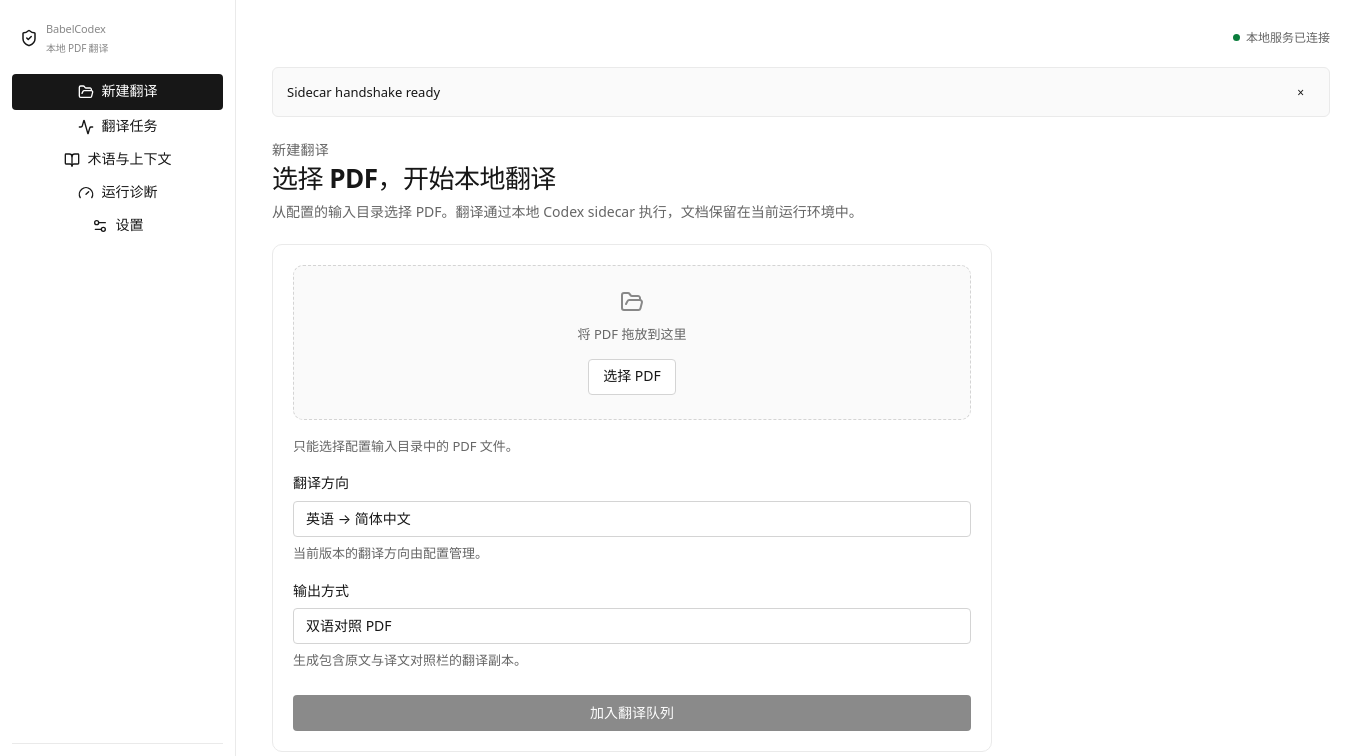
Test: BabelCodex GUI shell › switches between the task workbench views
This screenshot has width=1366, height=756.
Expected: the text "本地服务已连接" is shown, [1246, 28, 1330, 47]
Step 1. Click the button "翻译任务" → {"x": 118, "y": 127}, box [12, 111, 223, 143]
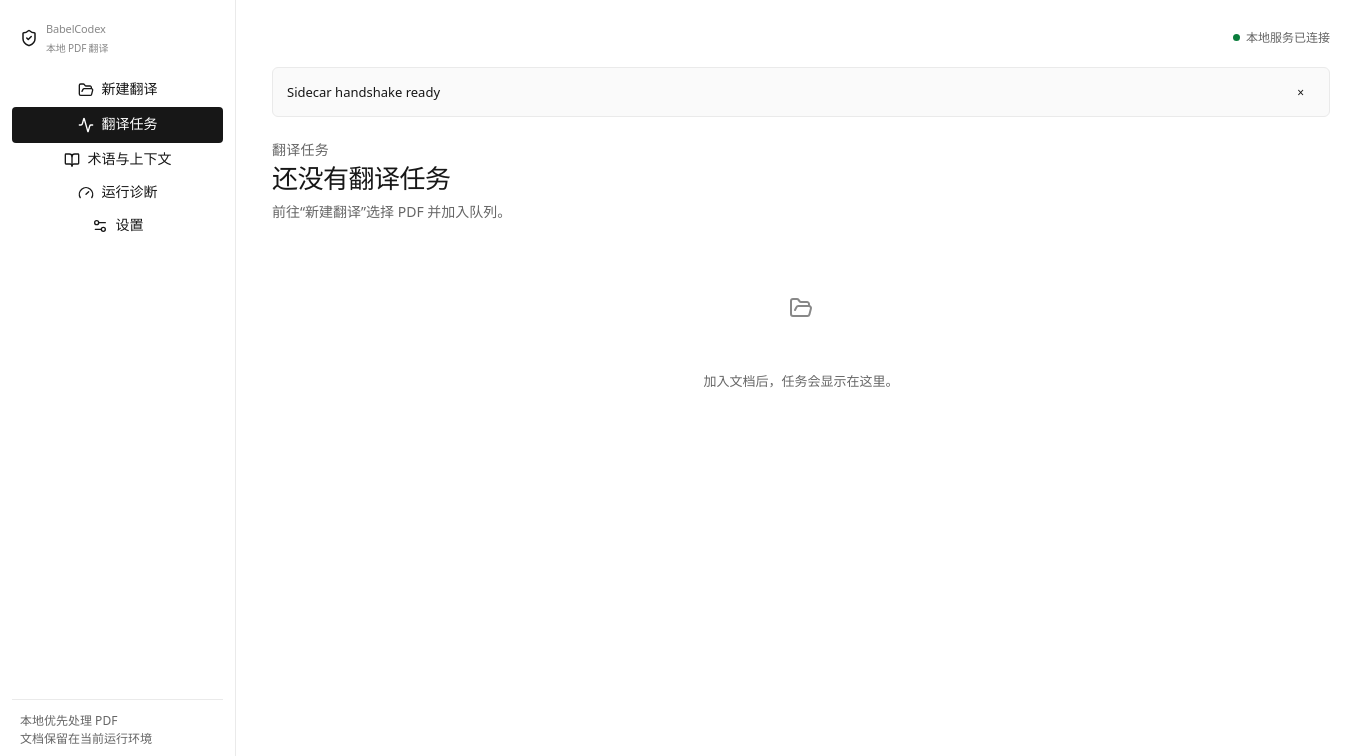
Now the heading "还没有翻译任务" is shown, box [272, 160, 450, 196]
Step 2. Click the button "运行诊断" → {"x": 118, "y": 193}, box [12, 177, 223, 209]
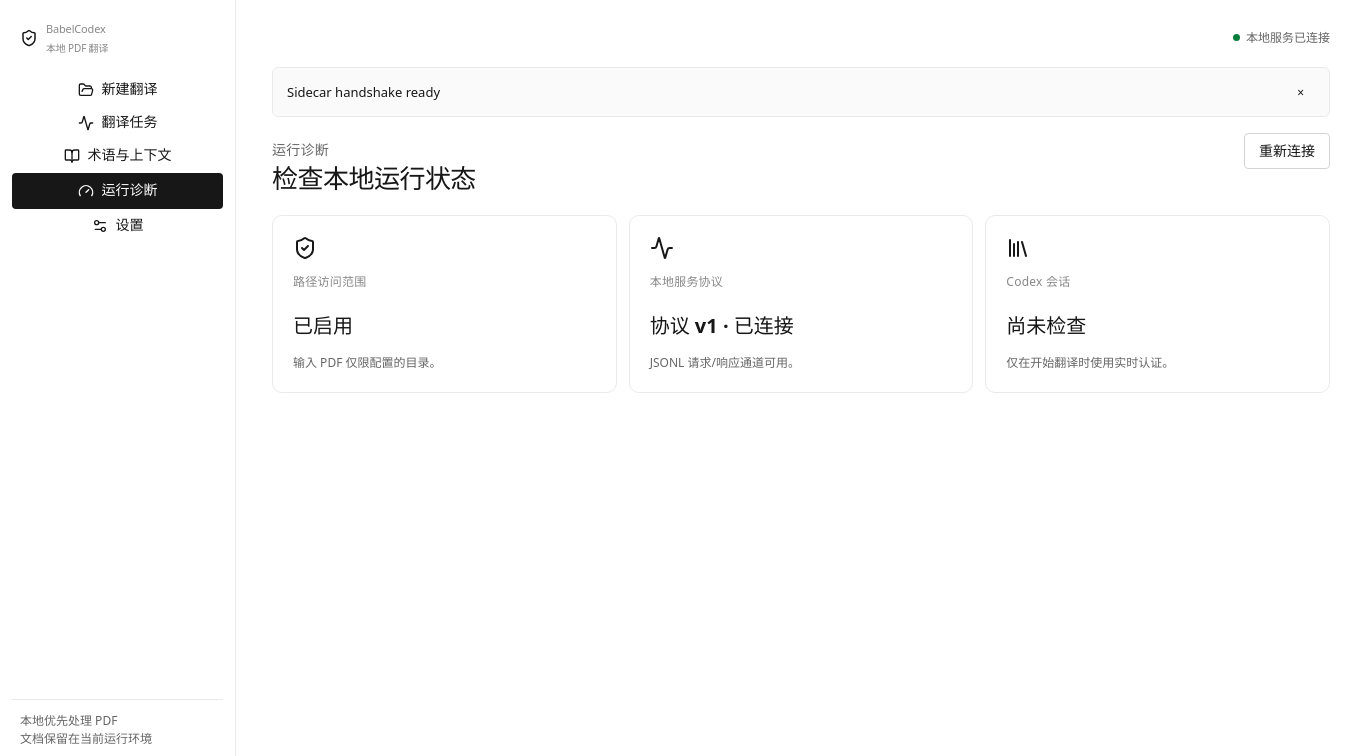
Now the heading "检查本地运行状态" is shown, box [272, 162, 476, 195]
Now the button "重新连接" is shown, box [1244, 133, 1330, 169]
